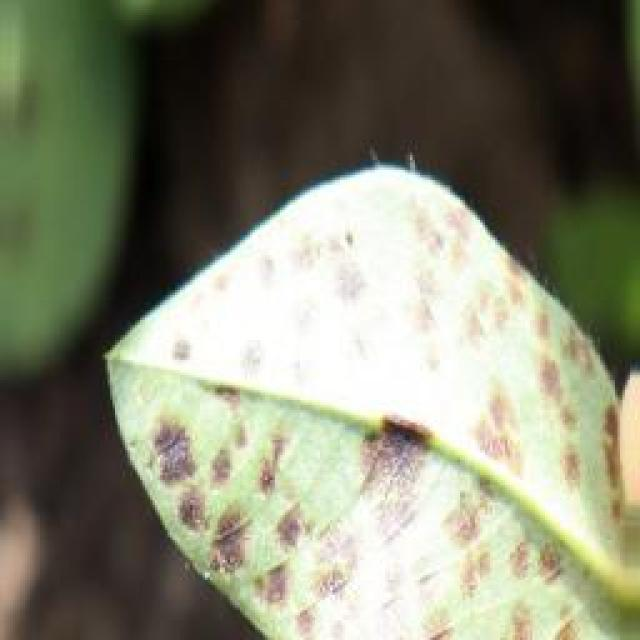Whitefly: (85, 165, 640, 640)
